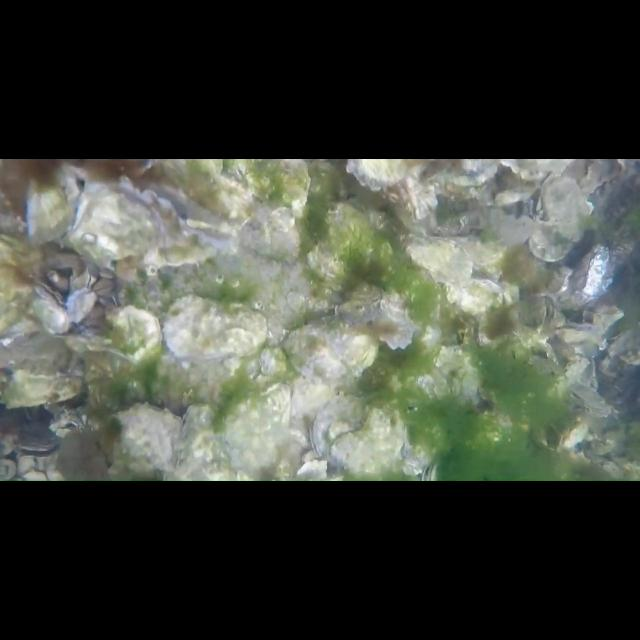Oyster-Closed: (164, 160, 310, 221), (66, 182, 158, 268), (406, 238, 502, 315), (162, 295, 266, 360), (284, 322, 379, 384), (227, 384, 294, 471), (346, 160, 438, 220), (109, 404, 181, 479), (549, 244, 631, 308), (422, 160, 501, 204), (541, 175, 592, 241), (311, 395, 362, 458), (108, 305, 162, 362), (26, 181, 72, 244), (479, 304, 518, 344), (518, 295, 552, 329), (67, 288, 93, 320), (550, 308, 566, 334)
Oyster-Open: (10, 420, 66, 460), (26, 281, 68, 327), (570, 384, 611, 418), (556, 422, 588, 449), (71, 269, 92, 294)
